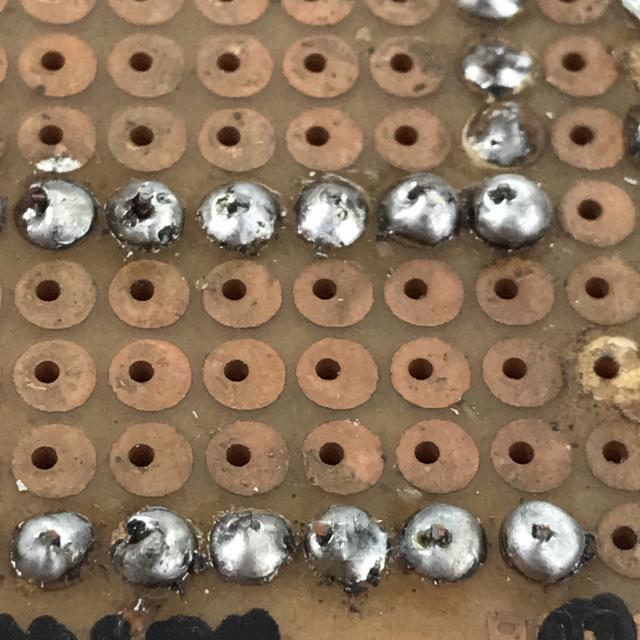good: (203, 499, 301, 593)
hole: (494, 493, 595, 591), (299, 500, 398, 599), (393, 497, 494, 591), (191, 170, 290, 260), (462, 168, 559, 255), (100, 173, 190, 260)
pad_less: (105, 498, 207, 599), (9, 171, 105, 256)
